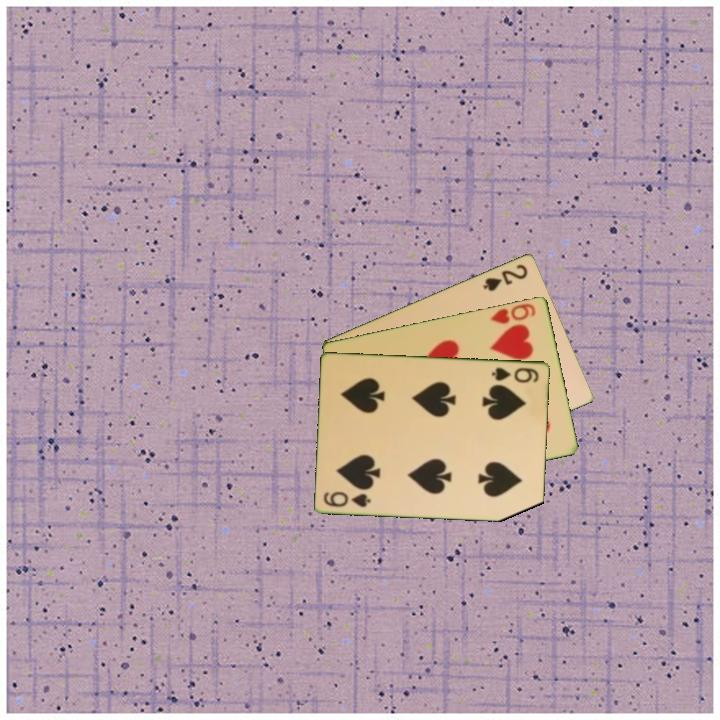2s: (479, 260, 531, 294)
6h: (487, 299, 539, 327)
6s: (320, 488, 374, 510), (488, 363, 541, 385)
